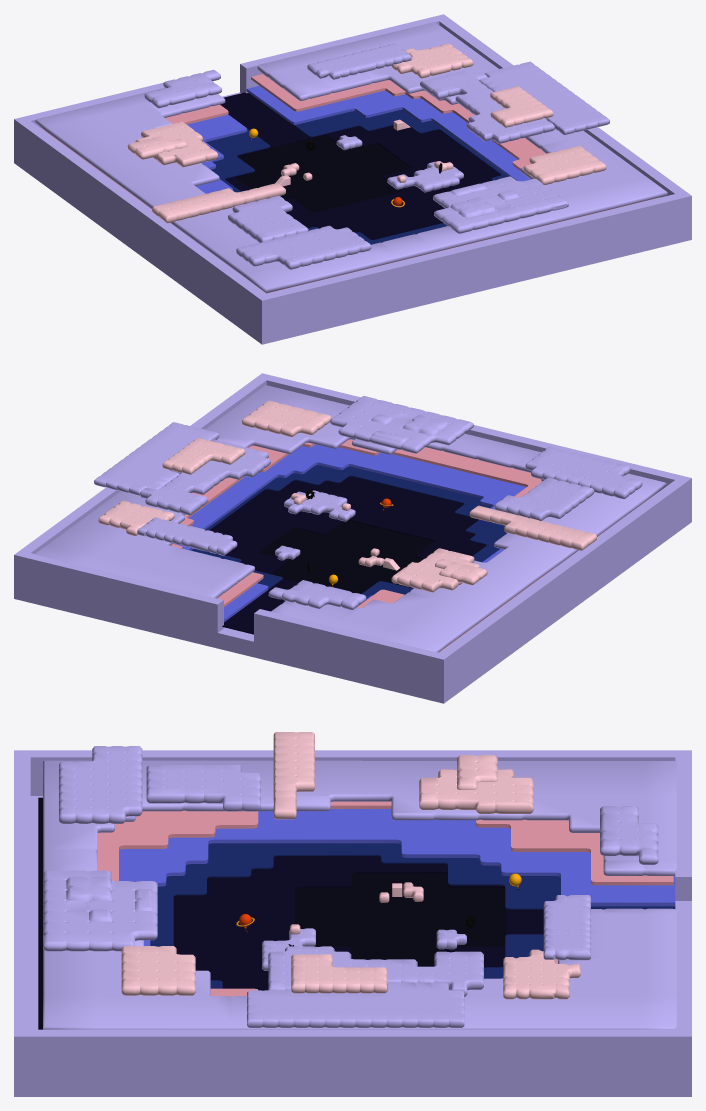
Rendered from BG_exit_ver.fbx.
3 views of the same model, one above another, from view 1: azimuth 30°, elevation 25°; view 2: azimuth 150°, elevation 25°; view 3: azimuth 270°, elevation 25° (orthographic). The views are drawn at different scales.
Parts seen in each view (by area): view 1: floor0, floor6, floor2, floor1, floor4, BG_cloud7, floor3, floor5, BG_cloud4, BG_cloud3, BG_cloud8, BG_cloud9 (+9 smaller); view 2: floor0, floor6, floor2, floor4, floor1, BG_cloud7, floor3, floor5, BG_cloud4, BG_cloud3, BG_cloud8, BG_cloud9 (+9 smaller); view 3: floor0, floor6, floor4, floor2, floor1, floor3, floor5, BG_cloud7, BG_cloud4, BG_cloud8, BG_cloud3, BG_cloud9 (+9 smaller).
Part boxes in pixels (x1,y1,x2,y2): floor0: (14,14,691,344); floor6: (35,22,667,293); floor2: (220,92,500,239); floor1: (236,136,410,212); floor4: (187,85,530,193); BG_cloud7: (433,176,568,233); floor3: (206,110,507,244); floor5: (41,74,659,293); BG_cloud4: (479,61,609,135); BG_cloud3: (420,70,554,143); BG_cloud8: (236,225,371,269); BG_cloud9: (228,195,308,242); floor0: (14,373,691,703); floor6: (35,385,666,652); floor2: (209,476,486,634); floor4: (175,444,526,622); floor1: (260,520,433,593); BG_cloud7: (330,396,473,453); floor3: (191,465,506,598); floor5: (171,439,658,652); BG_cloud4: (94,422,219,495); BG_cloud3: (140,439,270,515); BG_cloud8: (525,446,642,499); BG_cloud9: (494,477,594,520); floor0: (14,750,691,1096); floor6: (43,760,676,1029); floor4: (119,809,675,945); floor2: (173,856,543,990); floor1: (38,797,506,1029); floor3: (150,843,675,988); floor5: (97,801,673,996); BG_cloud7: (43,870,157,951); BG_cloud4: (247,982,464,1027); BG_cloud8: (59,746,142,823); BG_cloud3: (268,946,483,996); BG_cloud9: (146,764,260,811).
Size of the model in its own units: 1420 by 200 by 1406.
